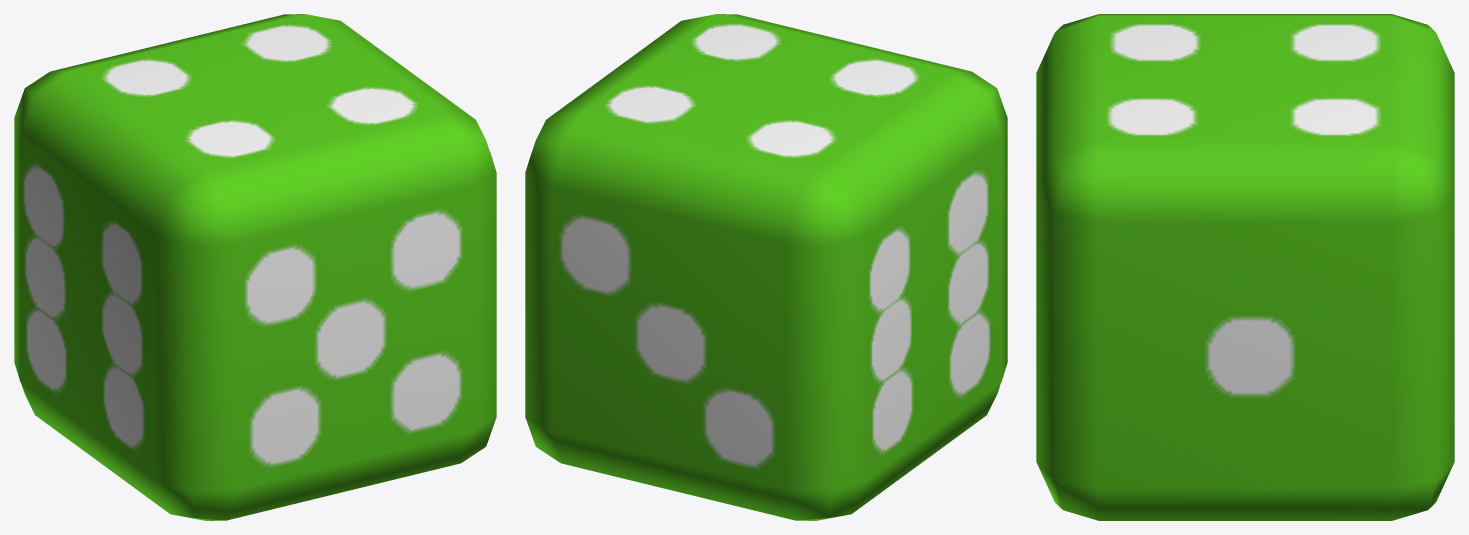
The model's file is dice.fbx.
3 renders of one model, left to right at view 1: azimuth 30°, elevation 25°; view 2: azimuth 150°, elevation 25°; view 3: azimuth 270°, elevation 25°, orthographic. The views are drawn at different scales.
Visible parts, largest first — view 1: dice; view 2: dice; view 3: dice.
Boxes of the visible parts, bbox=[...] form: dice: bbox=[14, 14, 496, 520]; dice: bbox=[525, 14, 1007, 520]; dice: bbox=[1036, 14, 1454, 520].
Size of the model in its own units: 100 by 100 by 100.
